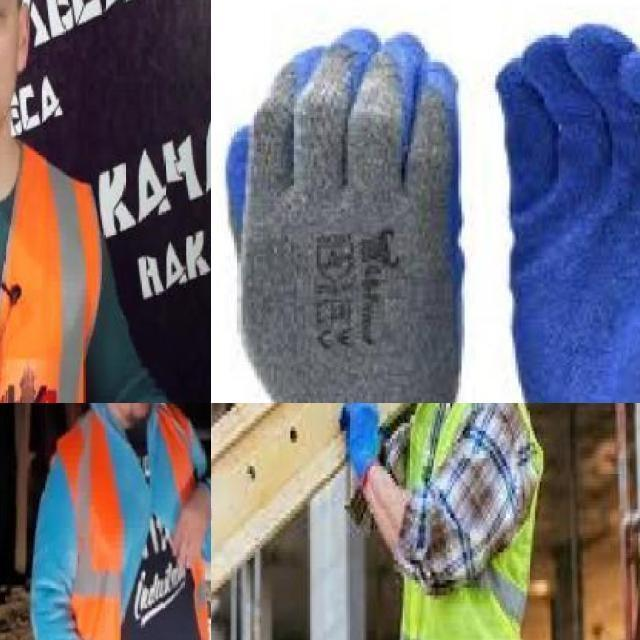apron: (215, 27, 486, 403), (491, 25, 640, 403), (333, 403, 382, 494)
